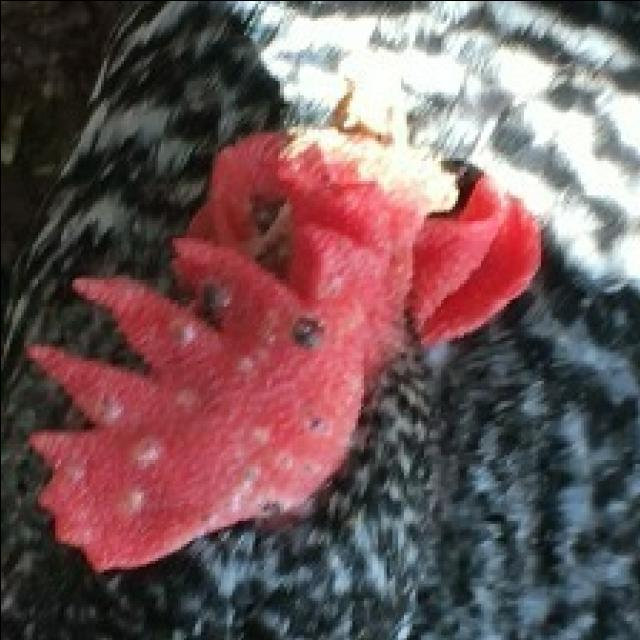Fowlpox: (140, 166, 397, 473)
